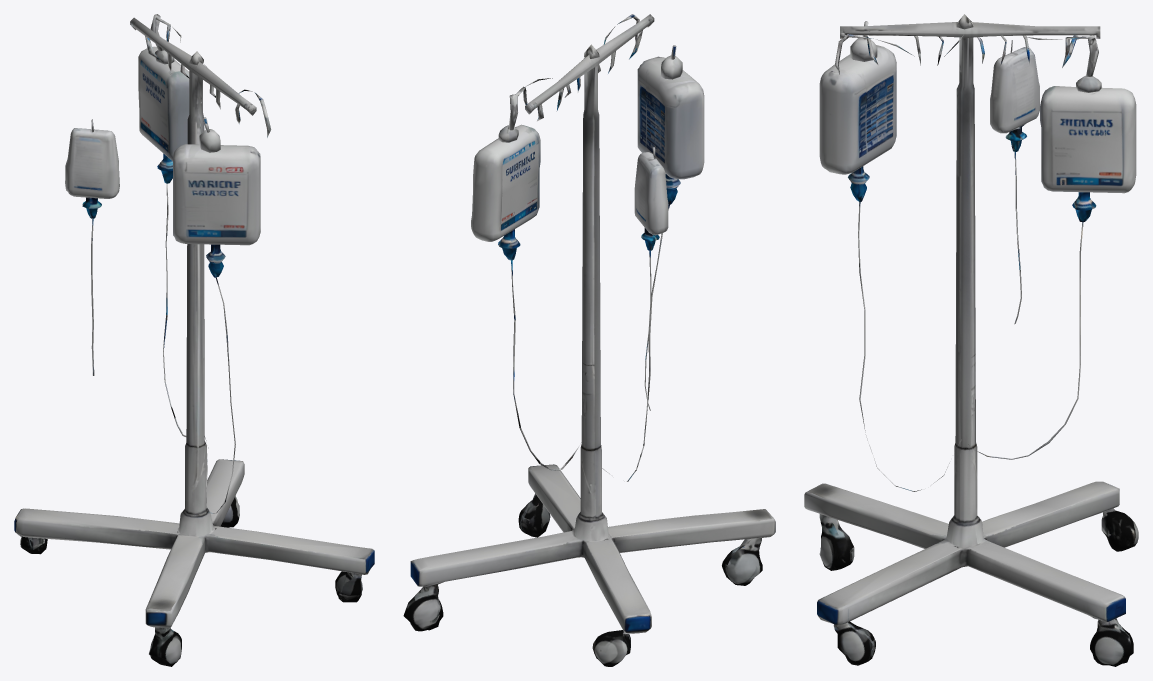
Rendered from ivpolewithbag.fbx.
3 views of the same model, side by side, from view 1: azimuth 30°, elevation 25°; view 2: azimuth 150°, elevation 25°; view 3: azimuth 270°, elevation 25° (orthographic). The views are drawn at different scales.
Visible parts, largest first — view 1: tripo_node_7ca99b2e; view 2: tripo_node_7ca99b2e; view 3: tripo_node_7ca99b2e.
Part boxes in pixels (left/top/right/bottom): tripo_node_7ca99b2e: left=14, top=14, right=374, bottom=666; tripo_node_7ca99b2e: left=403, top=14, right=775, bottom=666; tripo_node_7ca99b2e: left=804, top=14, right=1138, bottom=666.
Size of the model in its own units: 42.76 by 94.44 by 47.49.
Materials: 1 (1 with a texture image).
